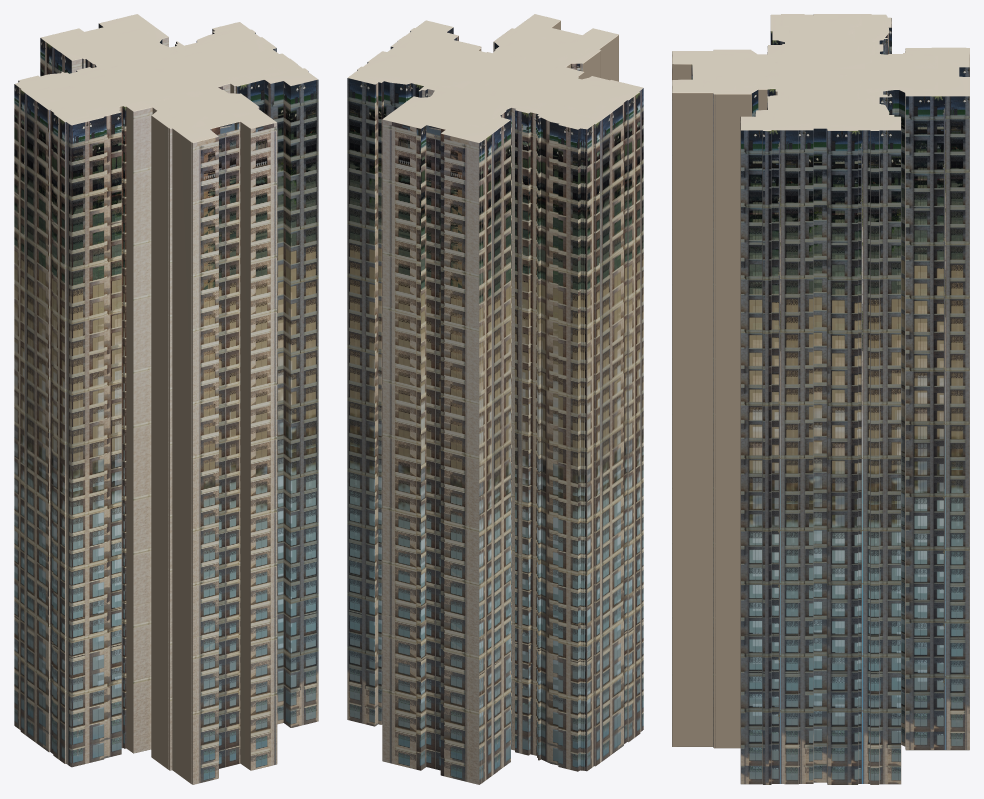
File: residential-facades.glb
The picture shows the model from 3 angles, left to right: view 1: azimuth 30°, elevation 25°; view 2: azimuth 150°, elevation 25°; view 3: azimuth 270°, elevation 25°; orthographic projection.
Parts seen in each view (by area): view 1: Spring, Mist, Castle, Heaven, Breeze, Vista, Orchard, Meadows; view 2: Spring, Breeze, Orchard, Castle, Heaven, Mist, Vista, Meadows; view 3: Mist, Spring, Castle, Breeze, Meadows, Vista, Orchard, Heaven.
Boxes of the visible parts, x1,y1,x2,y2 form: Spring: (24, 14, 302, 784); Mist: (14, 15, 301, 784); Castle: (26, 22, 318, 763); Heaven: (25, 22, 318, 763); Breeze: (18, 28, 284, 752); Vista: (31, 29, 296, 748); Orchard: (17, 16, 297, 139); Meadows: (34, 33, 296, 190); Spring: (357, 14, 643, 784); Breeze: (357, 42, 623, 771); Orchard: (357, 18, 636, 783); Castle: (347, 20, 638, 741); Heaven: (348, 22, 640, 761); Mist: (356, 14, 642, 771); Vista: (370, 26, 636, 126); Meadows: (377, 26, 632, 125); Mist: (674, 14, 967, 783); Spring: (672, 14, 969, 783); Castle: (740, 14, 901, 784); Breeze: (749, 14, 894, 784); Meadows: (703, 17, 937, 784); Vista: (703, 16, 937, 130); Orchard: (676, 15, 965, 746); Heaven: (740, 14, 900, 129).
Size of the model in its own units: 36.23 by 94.5 by 38.99.
Materials: 5 (3 with a texture image).
